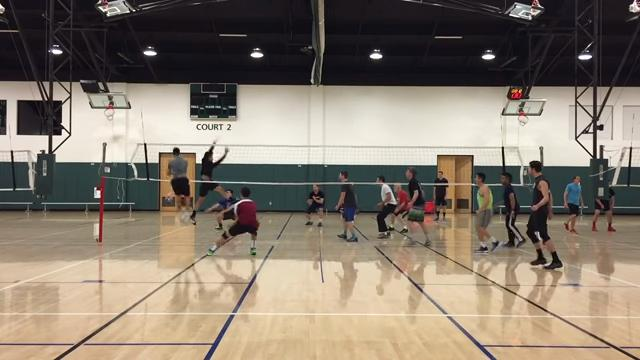attacco: (163, 144, 194, 229)
